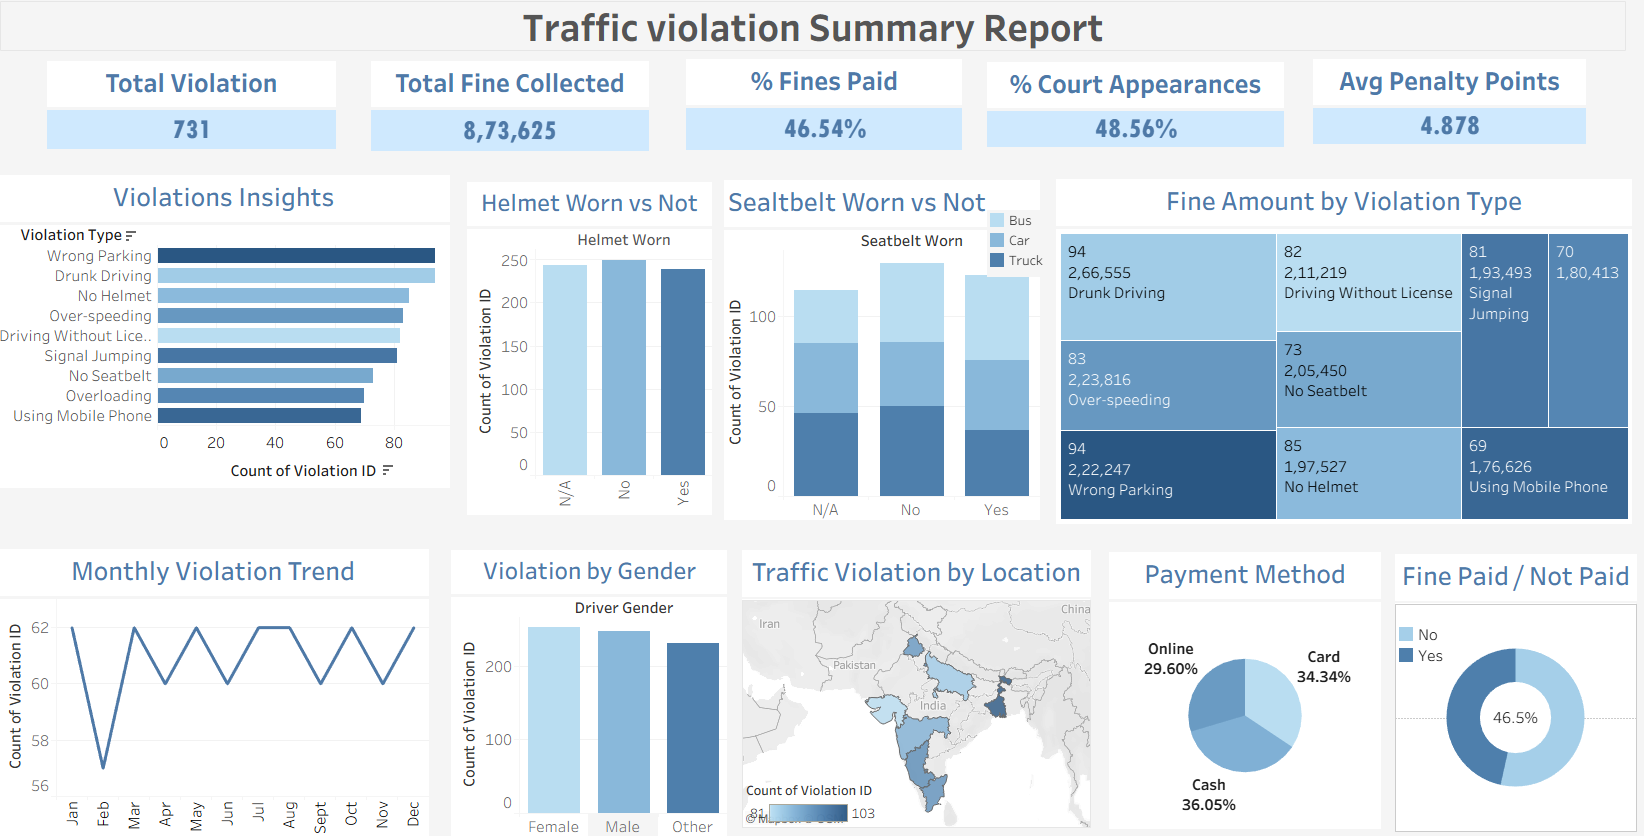

This screenshot's page, from the dashboard's own definition file:
{"tool":"tableau","page":{"name":"Dashboard 1","canvas":[1000,1000],"units":"permille","ordinal":0},"visuals":[{"type":"title","box":[4.9,10.2,990.2,73.9]},{"type":"worksheet","title":"% Fines Paid","mark":"Automatic","box":[422.9,81.5,167.6,105.7]},{"type":"worksheet","title":"Avg Penalty Points","mark":"Automatic","box":[803.2,81.5,165.8,99.4]},{"type":"worksheet","title":"Total Violations","mark":"Automatic","box":[36,84.1,174.9,101.9]},{"type":"worksheet","title":"Total Fine Collected","mark":"Automatic","box":[232.2,84.1,168.2,104.5]},{"type":"worksheet","title":"% Court Appearances","mark":"Automatic","box":[605.7,85.4,179.8,99.4]},{"type":"worksheet","title":"Fine Amount by Violation Type","mark":"Automatic","box":[644.1,220.4,352.2,401.3]},{"type":"worksheet","title":"Top Violation Types","mark":"Automatic","rows":["Violation_Type"],"cols":["Violation_ID"],"box":[5.5,221.7,277.9,407.6]},{"type":"worksheet","title":"Seatbelt Worn vs Not","mark":"Automatic","rows":["Violation_ID"],"cols":["Seatbelt_Worn"],"box":[446.1,221.7,191.3,396.2]},{"type":"worksheet","title":"Helmet Worn vs Not","mark":"Automatic","rows":["Violation_ID"],"cols":["Helmet_Worn"],"box":[290.1,224.2,148.7,387.3]},{"type":"legend","title":"Seatbelt Worn vs Not","param":"[federated.1bdcg000fjounk160aez80nonv7q].[none:Vehicle_Type:nk]","box":[605.7,243.3,36.6,77.7]},{"type":"worksheet","title":"Monthly Violation Trend","mark":"Line","rows":["Violation_ID"],"cols":["Calculation_333547897256730630"],"box":[5.5,651,262,333.8]},{"type":"worksheet","title":"Violations by Gender","mark":"Automatic","rows":["Violation_ID"],"cols":["Driver_Gender"],"box":[280.3,652.2,167.6,335]},{"type":"worksheet","title":"Violation by Location ","mark":"Multipolygon","box":[457,652.2,211.5,340.1]},{"type":"worksheet","title":"Payment Method Distribution","mark":"Pie","box":[679.5,654.8,165.1,332.5]},{"type":"worksheet","title":"Fines Paid vs Not Paid","mark":"Pie","rows":["Calculation_333547897275641866","Calculation_333547897275641866"],"box":[851.9,656.1,148.1,326.1]},{"type":"legend","title":"Fines Paid vs Not Paid","param":"[federated.1bdcg000fjounk160aez80nonv7q].[none:Fine_Paid:nk]","box":[853.1,738.9,32.3,53.5]},{"type":"legend","title":"Violation by Location ","param":"[federated.1bdcg000fjounk160aez80nonv7q].[cnt:Violation_ID:qk]","box":[459.5,921,81,54.8]}]}

Visuals, with their boxes on the dashboard's canvas, which has no fixed pixel size, in thousandths of its width and height (x1, y1, x2, y2). These are canvas units, not pixel positions in the 1644x836 screenshot, which may show the page scaled, cropped or inside an application window:
title: 5, 10, 995, 84
"% Fines Paid" worksheet: 423, 82, 590, 187
"Avg Penalty Points" worksheet: 803, 82, 969, 181
"Total Violations" worksheet: 36, 84, 211, 186
"Total Fine Collected" worksheet: 232, 84, 400, 189
"% Court Appearances" worksheet: 606, 85, 786, 185
"Fine Amount by Violation Type" worksheet: 644, 220, 996, 622
"Top Violation Types" worksheet: 6, 222, 283, 629
"Seatbelt Worn vs Not" worksheet: 446, 222, 637, 618
"Helmet Worn vs Not" worksheet: 290, 224, 439, 612
"Seatbelt Worn vs Not" legend: 606, 243, 642, 321
"Monthly Violation Trend" worksheet (Line marks): 6, 651, 268, 985
"Violations by Gender" worksheet: 280, 652, 448, 987
"Violation by Location " worksheet (Multipolygon marks): 457, 652, 668, 992
"Payment Method Distribution" worksheet (Pie marks): 680, 655, 845, 987
"Fines Paid vs Not Paid" worksheet (Pie marks): 852, 656, 1000, 982
"Fines Paid vs Not Paid" legend: 853, 739, 885, 792
"Violation by Location " legend: 460, 921, 540, 976
